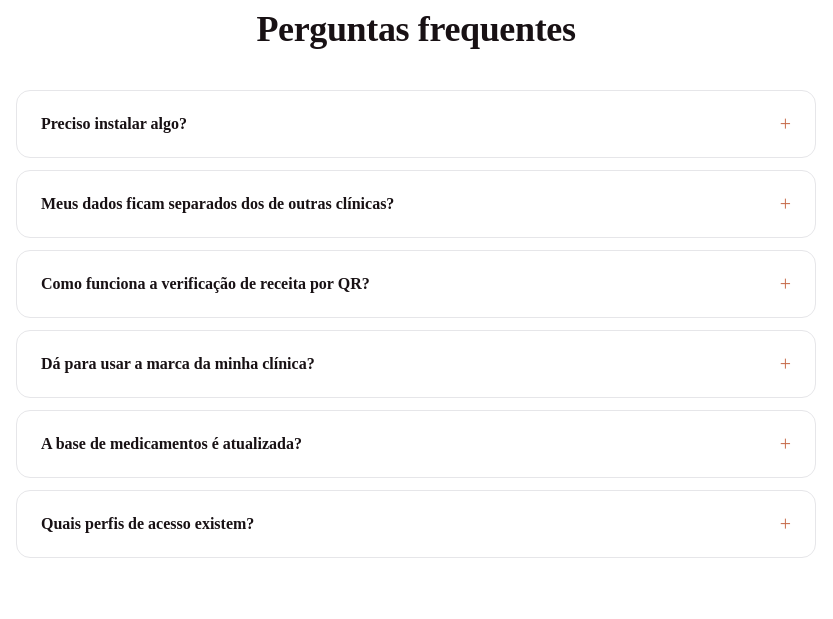
Test: Faq (integration) › expands an answer on click and collapses it on a second click
What coordinates should you click on to do the following:
click the button "Preciso instalar algo? +"
I would click on:
 (114, 123)
Its box is [17,91,815,157].
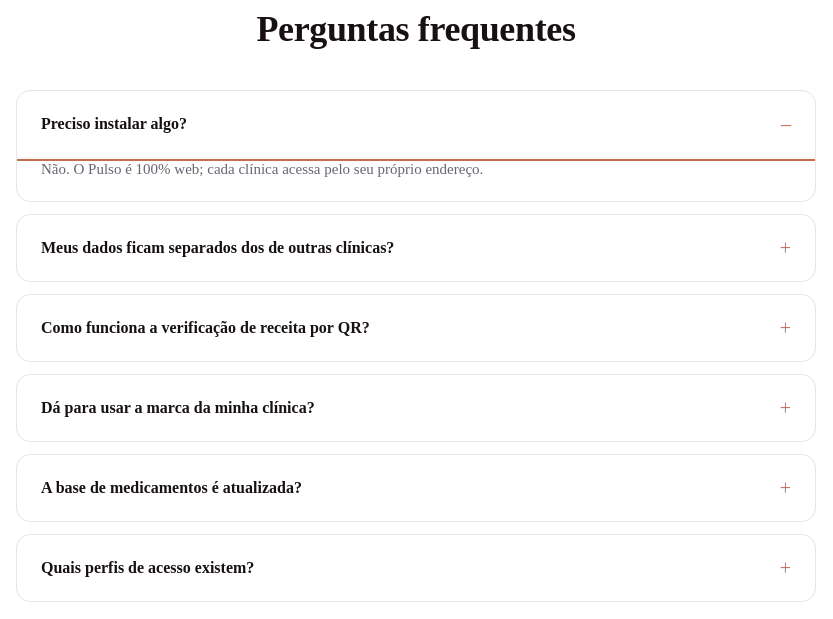
Expected: the text "Não. O Pulso é 100% web; cada clínica acessa pelo seu próprio endereço." is shown, [41,161,483,177]
What coordinates should you click on to do the following:
click the button "Preciso instalar algo? –"
I would click on:
 (114, 123)
Its box is [17,91,815,157].
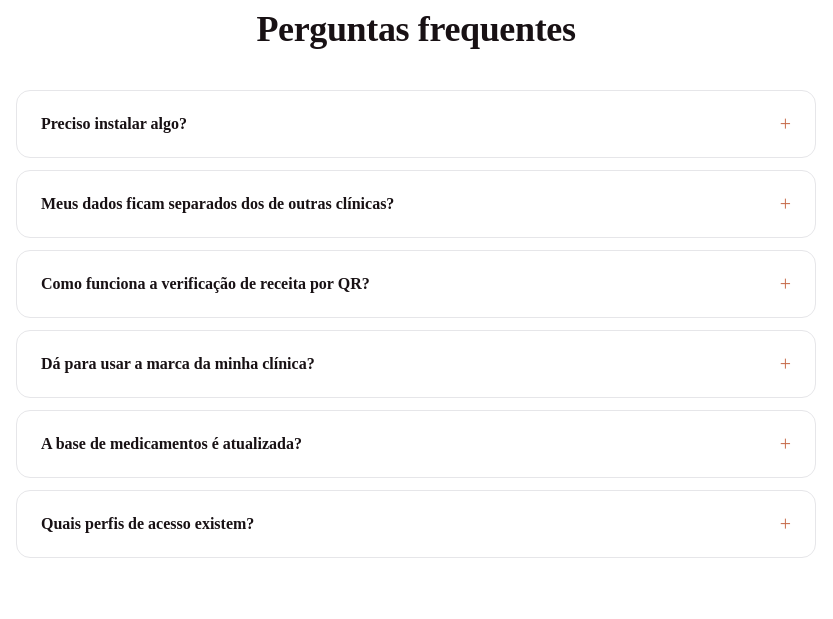
Expected: the text "Não. O Pulso é 100% web; cada clínica acessa pelo seu próprio endereço." is gone
